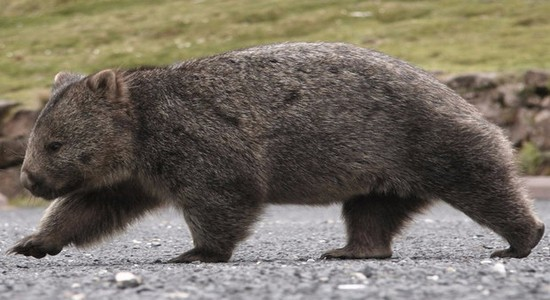Wombat: (4, 36, 547, 263)
